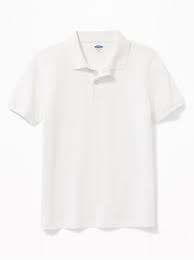C_polo shirt: (5, 33, 187, 233)
